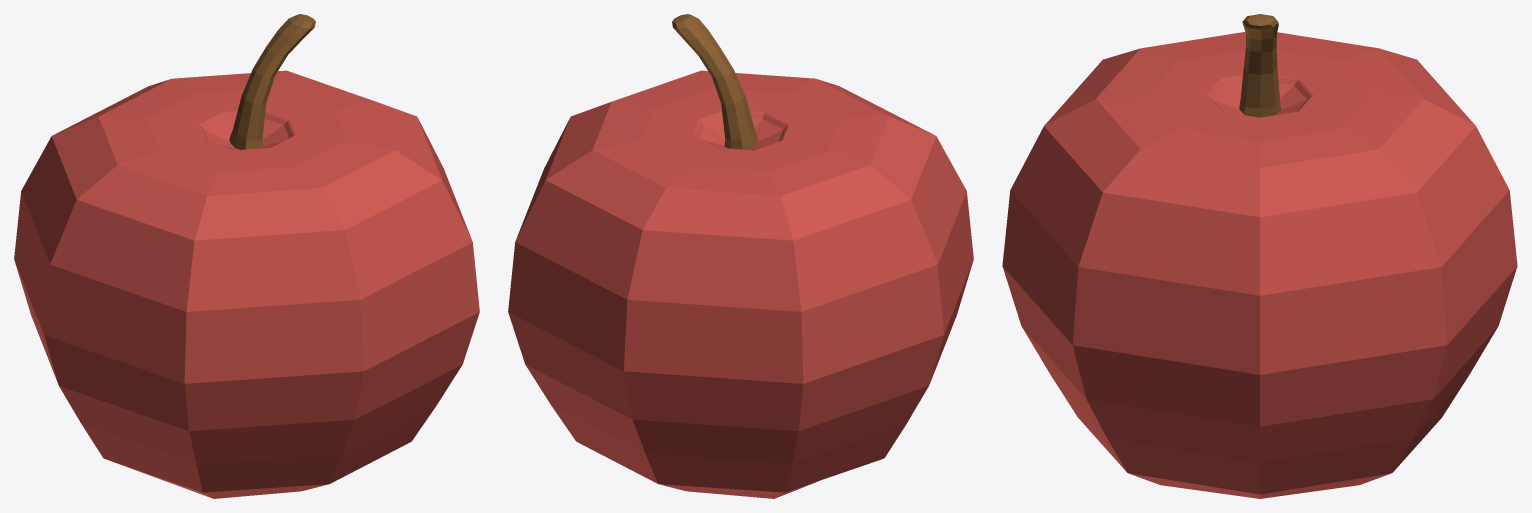
Rendered from apple.fbx.
3 renders of one model, left to right at view 1: azimuth 30°, elevation 25°; view 2: azimuth 150°, elevation 25°; view 3: azimuth 270°, elevation 25°, orthographic. The views are drawn at different scales.
Visible parts, largest first — view 1: apple; view 2: apple; view 3: apple.
Part boxes in pixels (left/top/right/bottom): apple: left=14, top=14, right=479, bottom=498; apple: left=508, top=14, right=973, bottom=498; apple: left=1002, top=14, right=1517, bottom=498.
Size of the model in its own units: 6.79 by 6.86 by 6.79.
